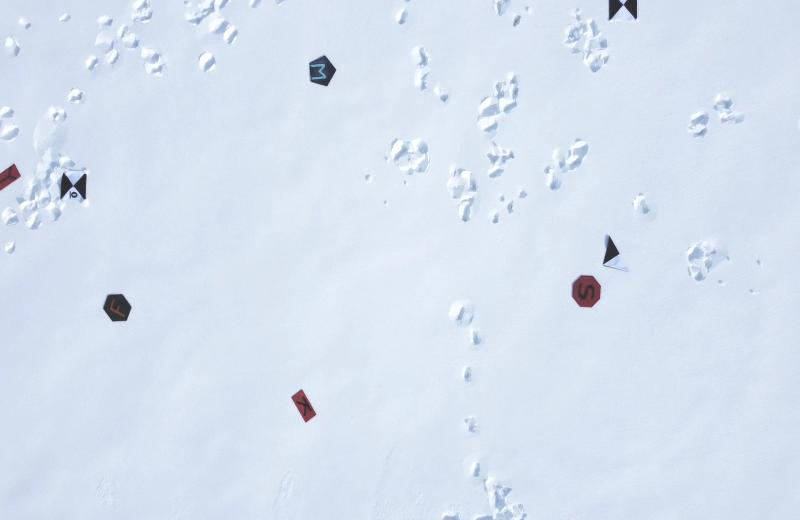Hexagon: (99, 288, 138, 326)
Octagon: (569, 267, 604, 312)
Pentagon: (302, 50, 338, 90)
Rectangle: (284, 388, 322, 428), (0, 159, 24, 196)
Triangle: (107, 9, 142, 49)
